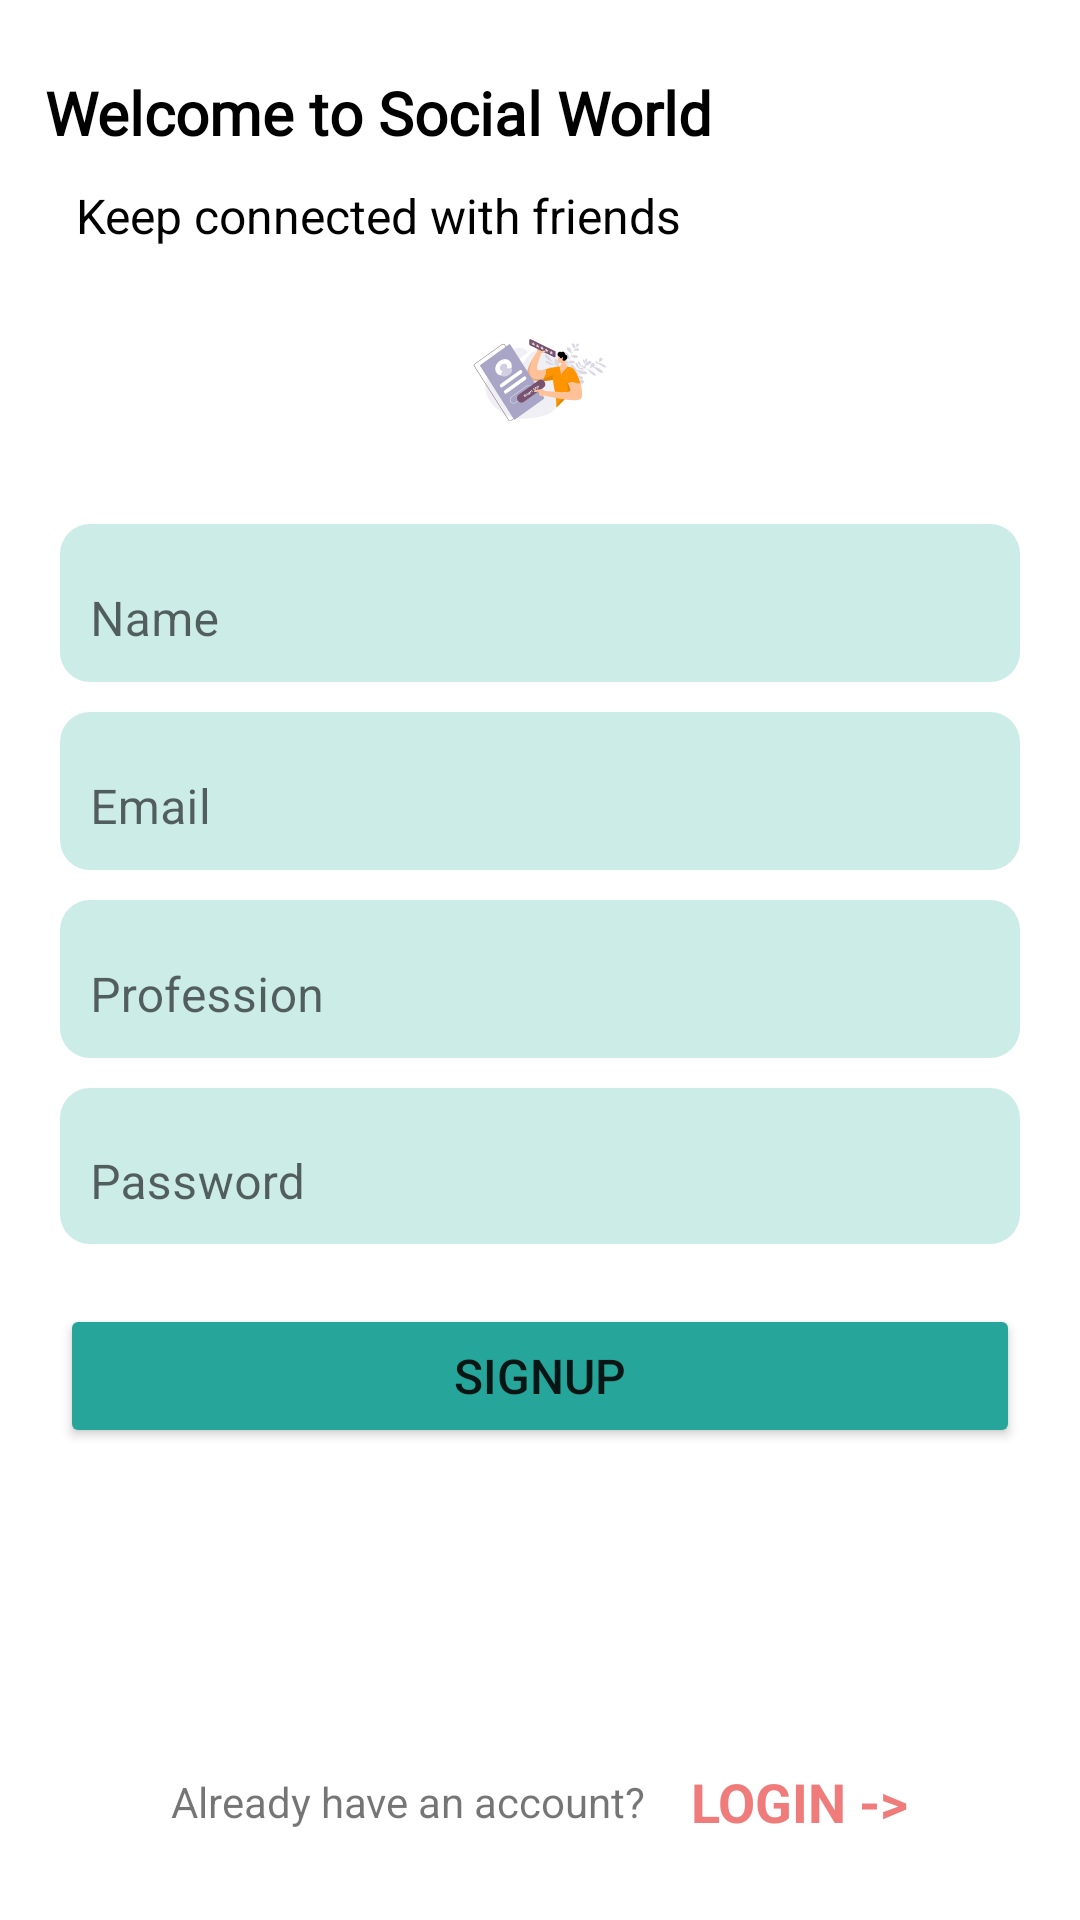

Named icons in this screenshot (1080px x 1920px) and their centers, (x,y):
sign up form: (539,380)
